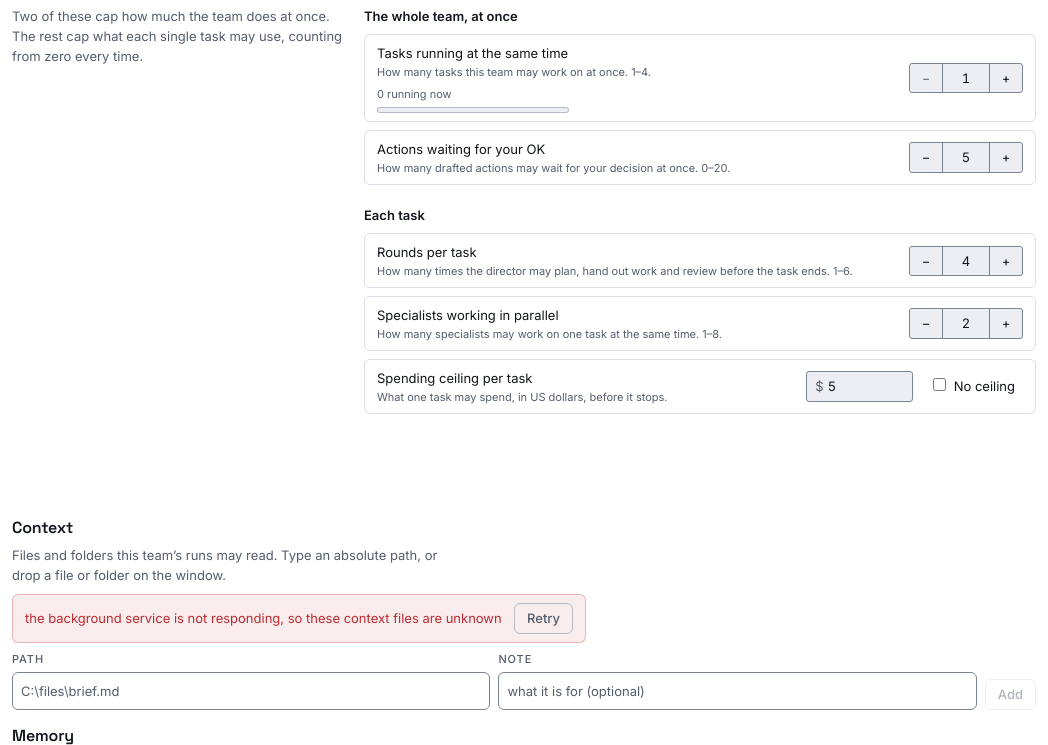
Charter - limits › gives the amount back when No ceiling is unticked again
(page scrolled)
Click the checkbox labelled "No ceiling" at (939, 385), box [933,378,946,392]
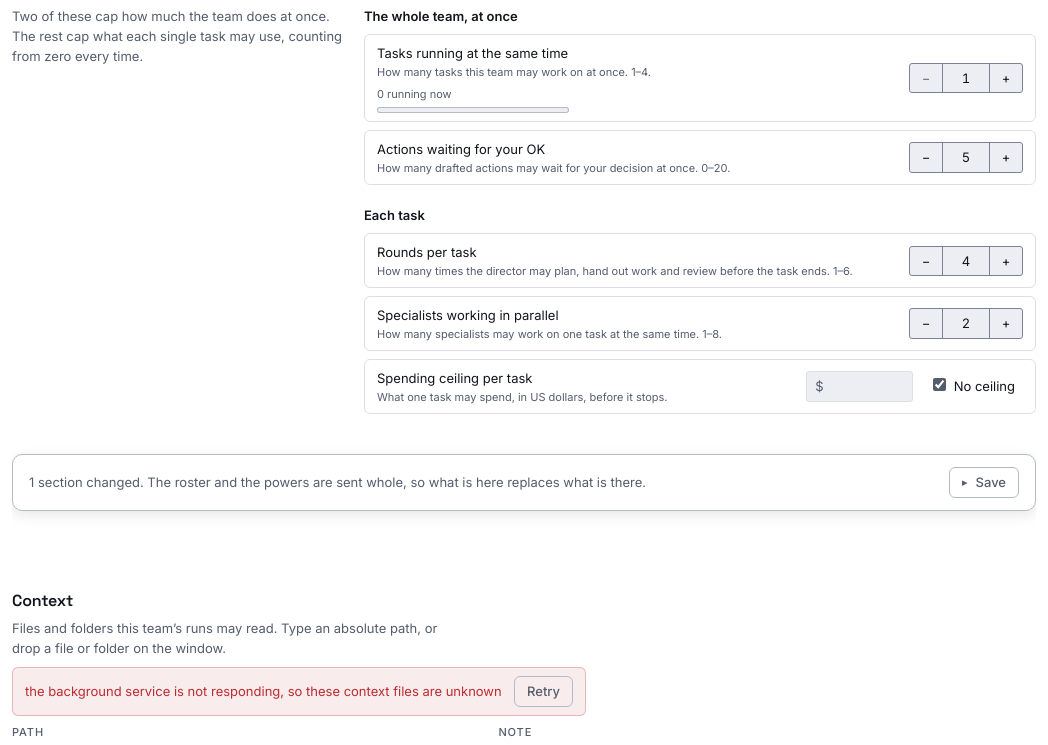
Click the checkbox labelled "No ceiling" at (939, 385), box [933,378,946,392]
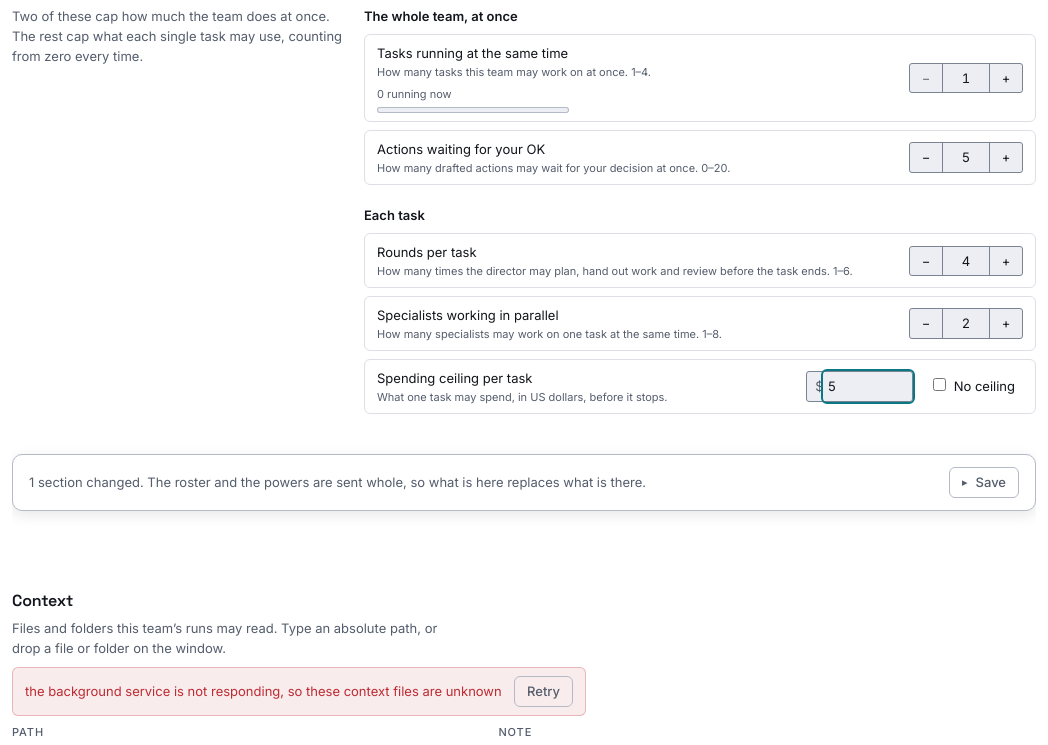
Result: the field labelled "Spending ceiling per task" is enabled at [824,372,912,401]
Result: the field labelled "Spending ceiling per task" holds "5" at [824,372,912,401]
